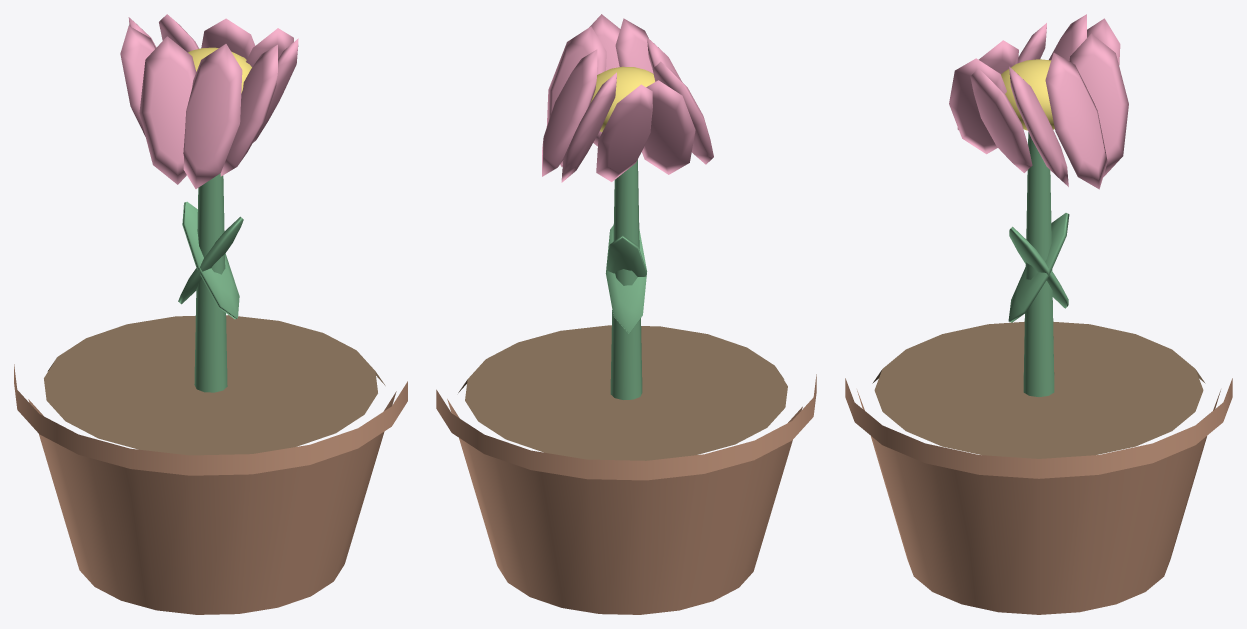
Rendered from plant-flor.glb.
3 views of the same model, side by side, from view 1: azimuth 30°, elevation 25°; view 2: azimuth 150°, elevation 25°; view 3: azimuth 270°, elevation 25° (orthographic). The views are drawn at different scales.
Visible parts, largest first — view 1: Vaso, Terra, Petalas, Caule, Miolo; view 2: Vaso, Terra, Petalas, Caule, Miolo; view 3: Vaso, Terra, Petalas, Caule, Miolo.
Part boxes in pixels (box(x1,y1,x2,y2)): Vaso: box(14, 364, 407, 614); Terra: box(44, 315, 385, 455); Petalas: box(120, 14, 298, 188); Caule: box(178, 173, 243, 392); Miolo: box(188, 47, 251, 93); Vaso: box(436, 374, 816, 614); Terra: box(458, 325, 787, 460); Petalas: box(542, 14, 713, 182); Caule: box(605, 159, 647, 399); Miolo: box(590, 66, 655, 131); Vaso: box(845, 378, 1232, 614); Terra: box(872, 321, 1205, 458); Petalas: box(949, 14, 1128, 189); Caule: box(1008, 132, 1069, 396); Miolo: box(1001, 59, 1054, 130).
Bounding box in the file's own units: 1.06 × 1.56 × 1.06.
